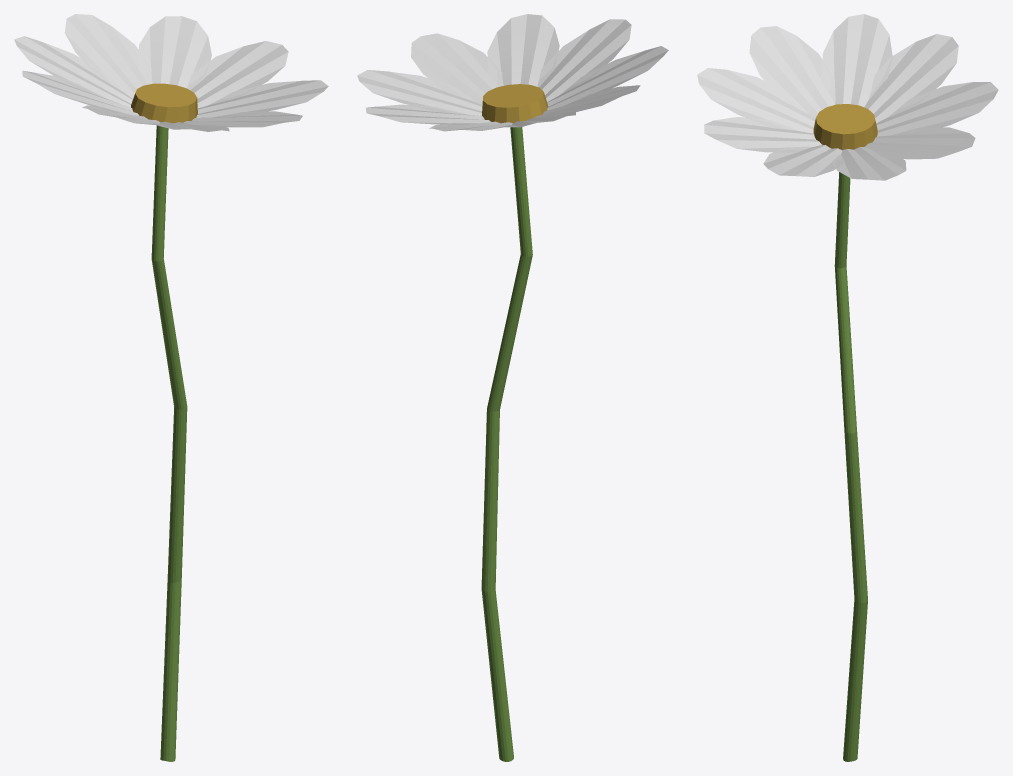
Rendered from Daisy (2).fbx.
The picture shows the model from 3 angles, left to right: view 1: azimuth 30°, elevation 25°; view 2: azimuth 150°, elevation 25°; view 3: azimuth 270°, elevation 25°; orthographic projection. The views are drawn at different scales.
Visible parts, largest first — view 1: Circle.002, Circle.016; view 2: Circle.002, Circle.016; view 3: Circle.002, Circle.016.
Part boxes in pixels (box(x1,y1,x2,y2)): Circle.002: box(14, 14, 328, 131); Circle.016: box(131, 83, 197, 761); Circle.002: box(357, 14, 668, 131); Circle.016: box(481, 84, 548, 761); Circle.002: box(697, 14, 998, 180); Circle.016: box(813, 104, 877, 761).
Size of the model in its own units: 16 by 40.22 by 16.14.
